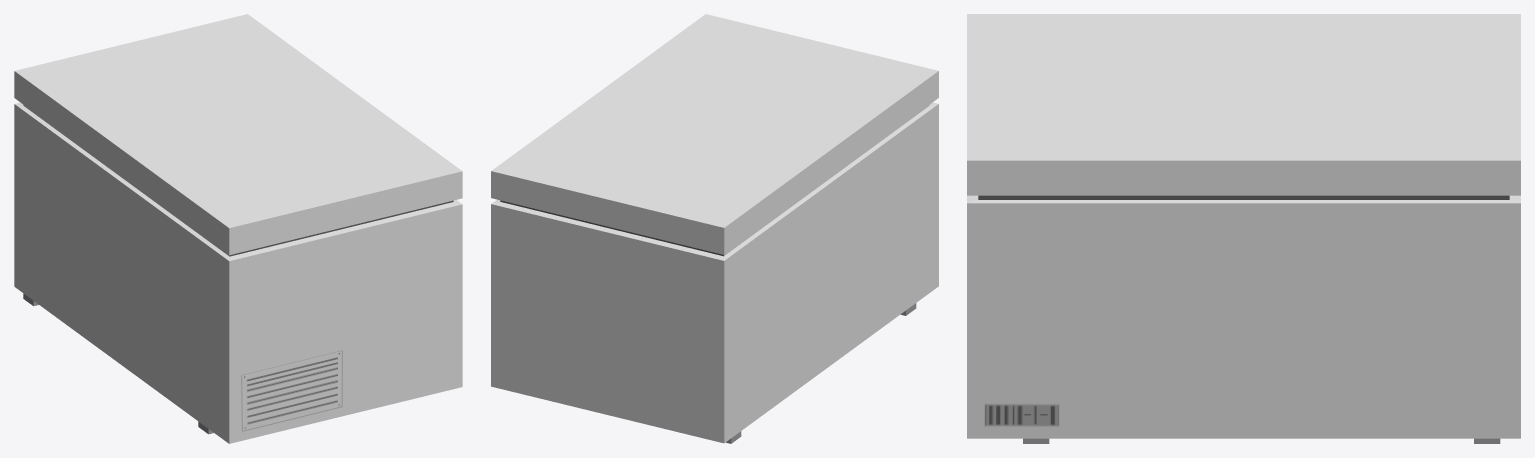
The model's file is ICEBOX.fbx.
3 renders of one model, left to right at view 1: azimuth 30°, elevation 25°; view 2: azimuth 150°, elevation 25°; view 3: azimuth 270°, elevation 25°, orthographic. The views are drawn at different scales.
Parts seen in each view (by area): view 1: ICE_Box; view 2: ICE_Box; view 3: ICE_Box.
Boxes of the visible parts, bbox=[...] form: ICE_Box: bbox=[14, 14, 462, 443]; ICE_Box: bbox=[491, 14, 938, 443]; ICE_Box: bbox=[967, 14, 1520, 438].
Bounding box in the file's own units: 1 × 0.9103 × 1.59.
